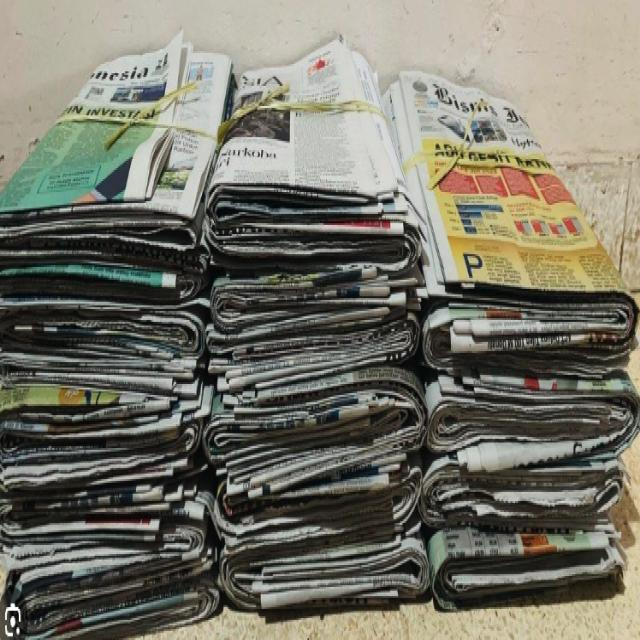Koran: (3, 34, 639, 640), (382, 58, 638, 602), (4, 42, 228, 628), (207, 47, 432, 611)
